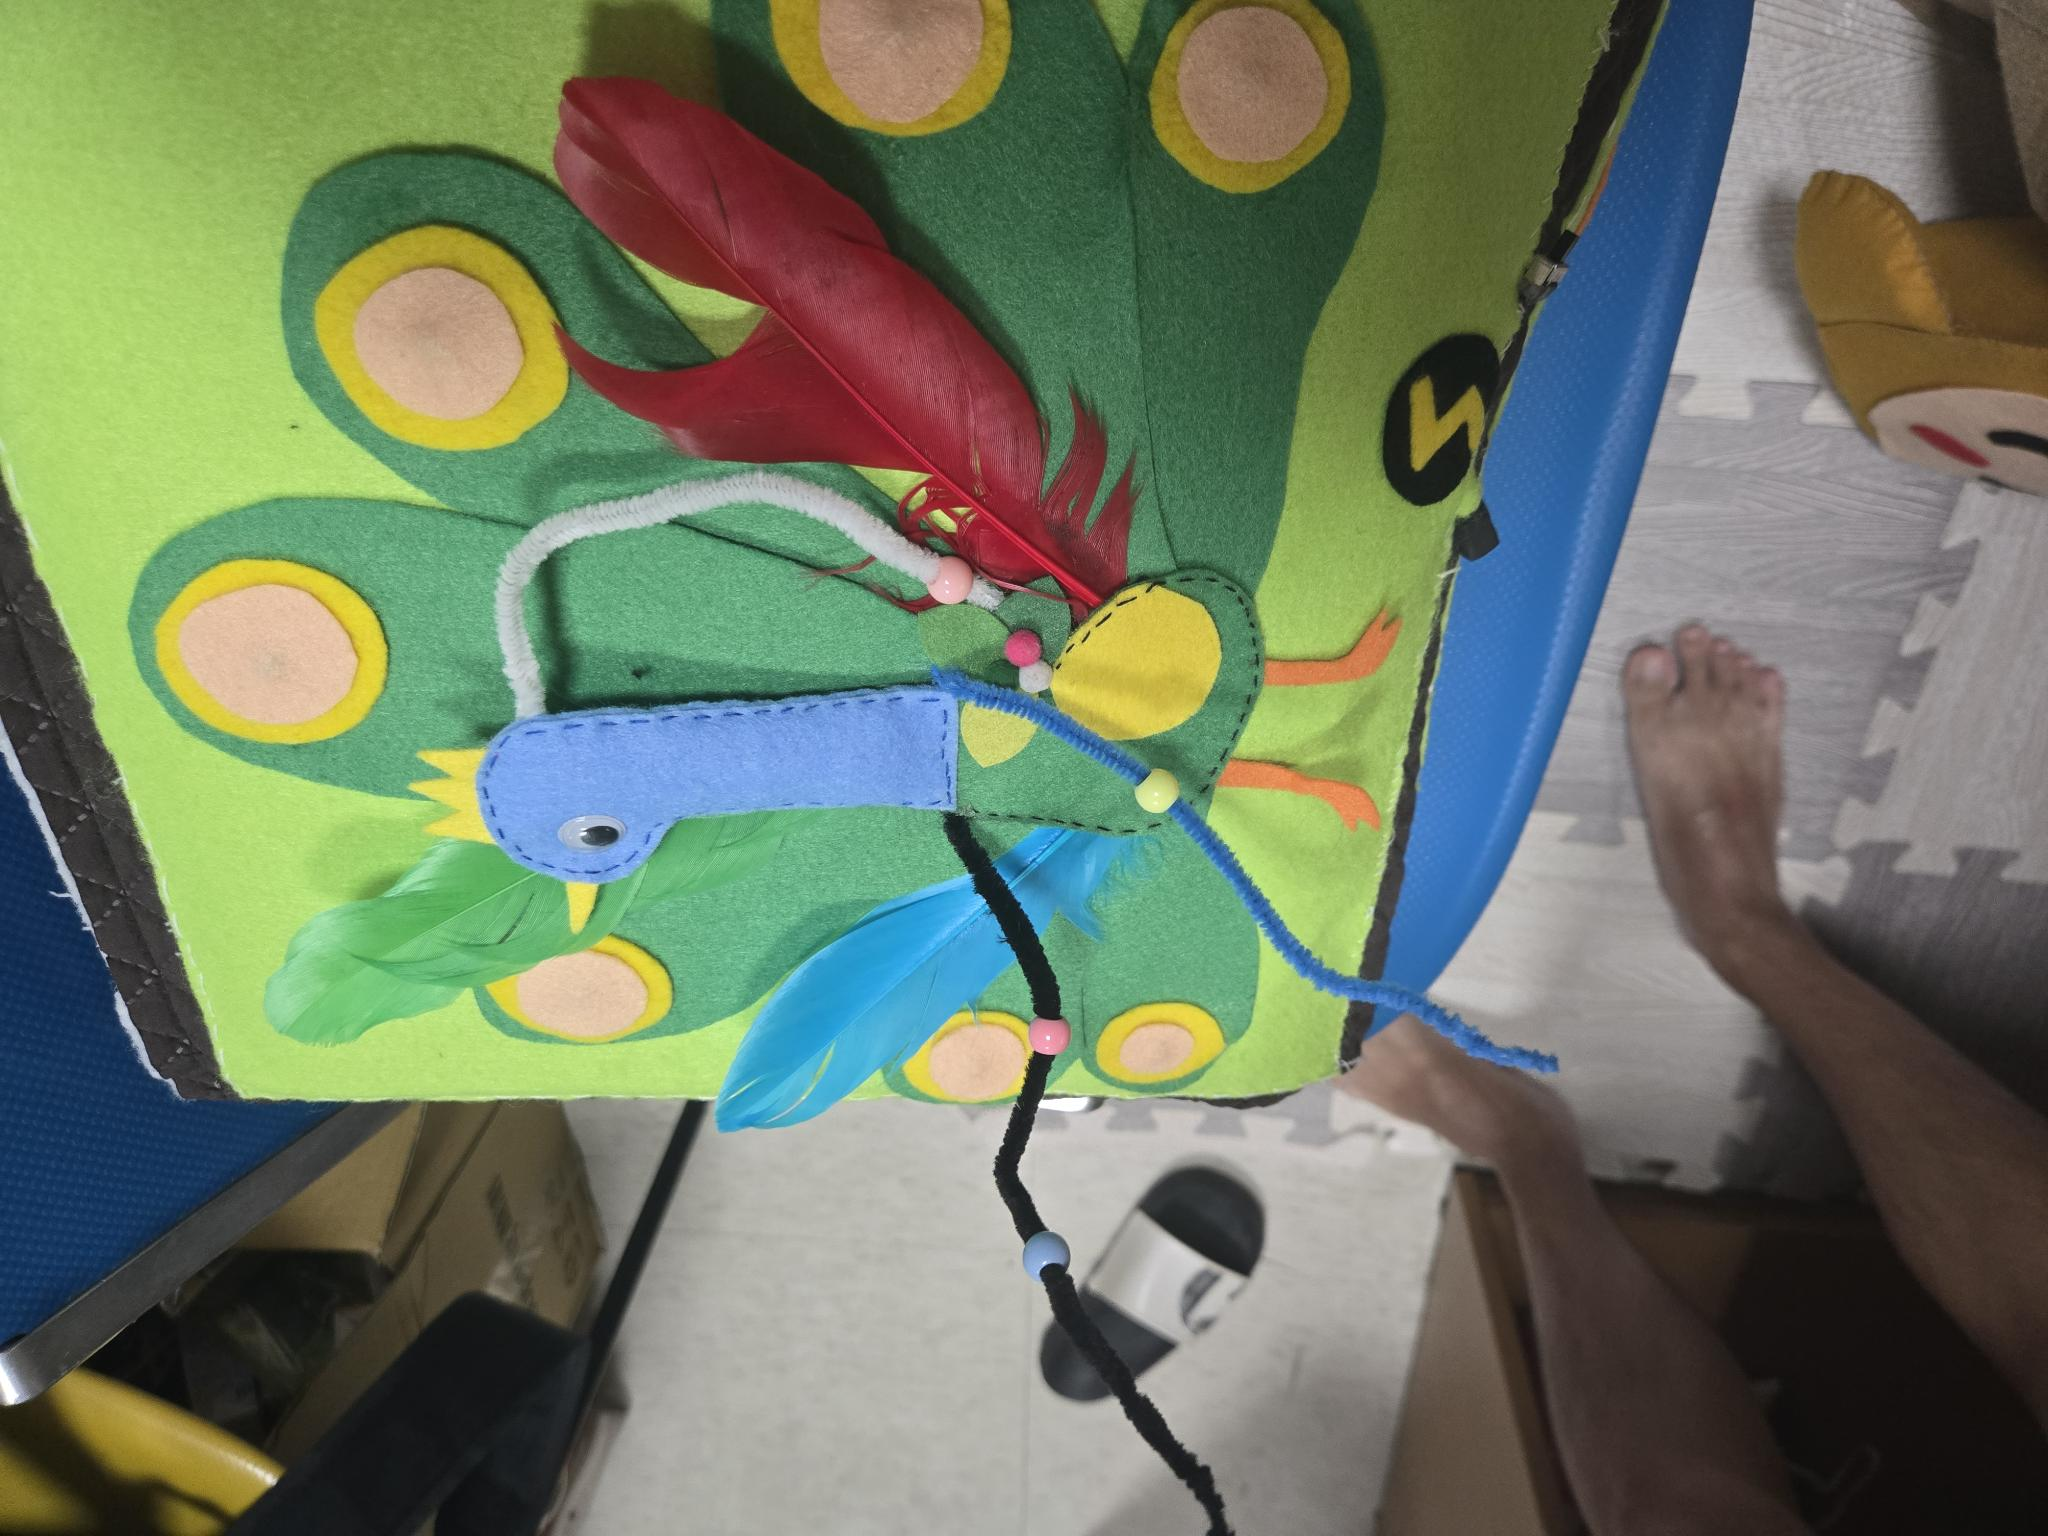bead: (1005, 1225, 1093, 1289), (1021, 1005, 1085, 1076), (1127, 757, 1187, 821), (927, 549, 976, 620)
